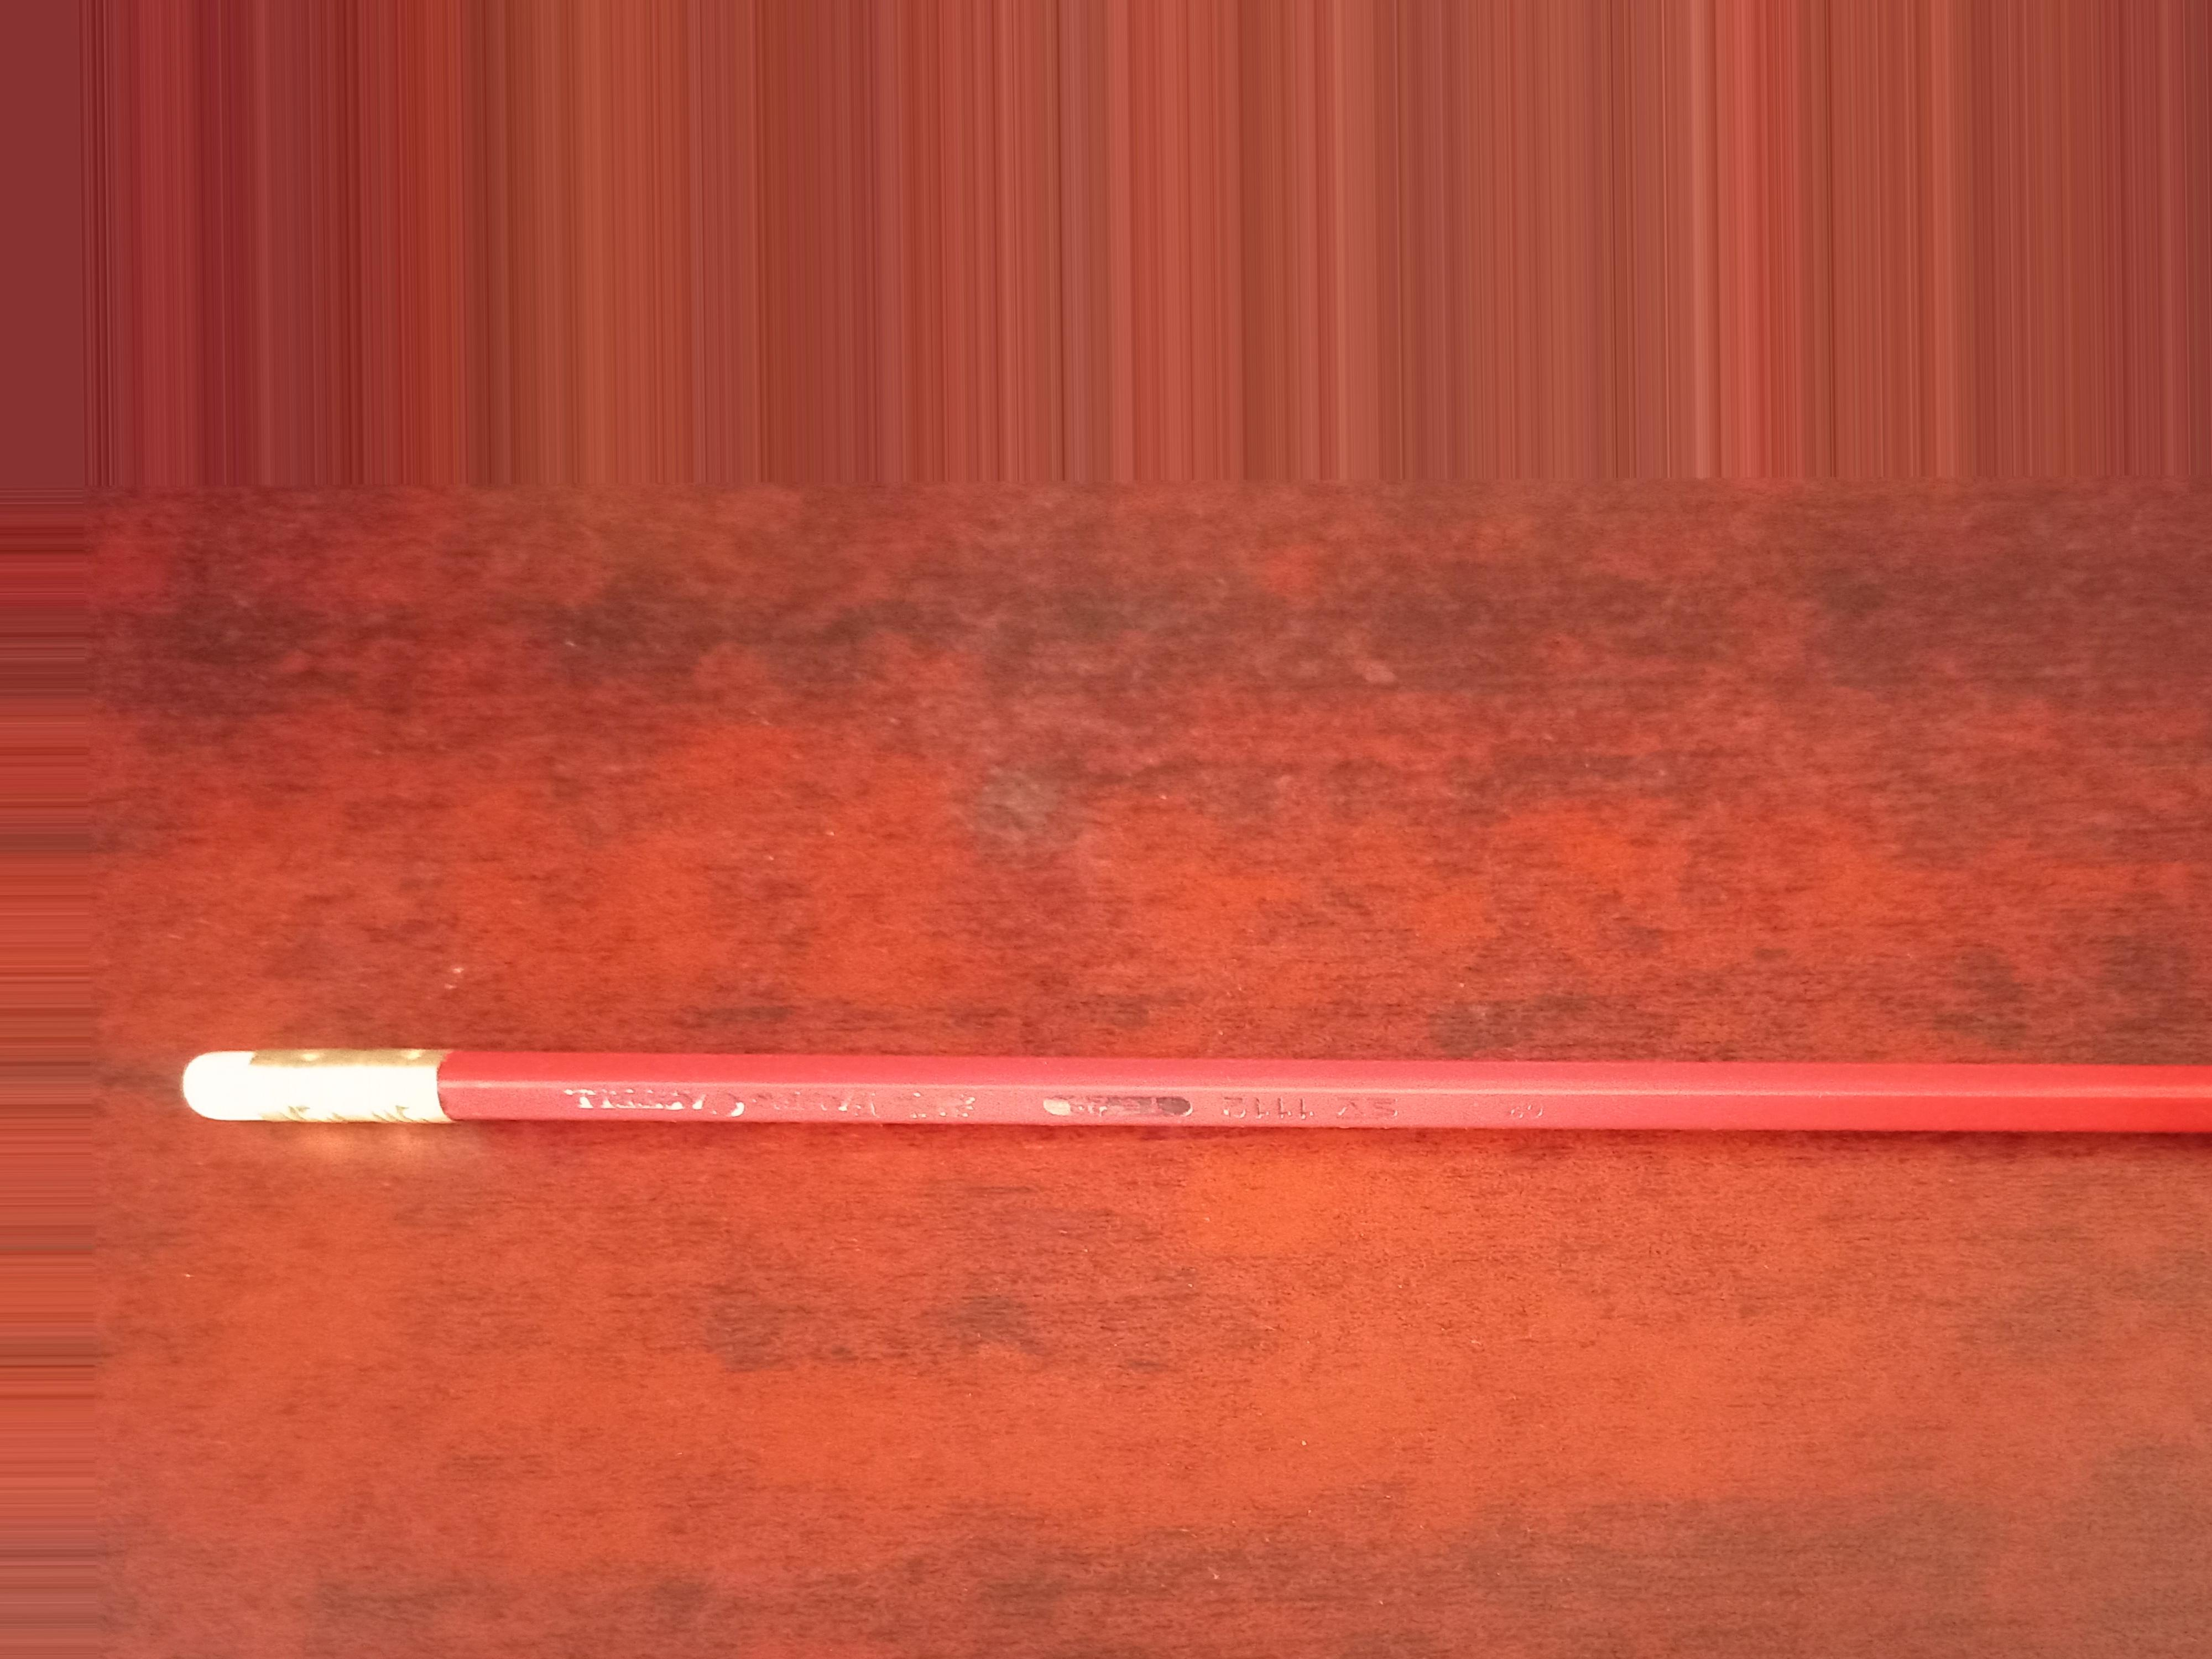pencil: (174, 1047, 2212, 1185)
